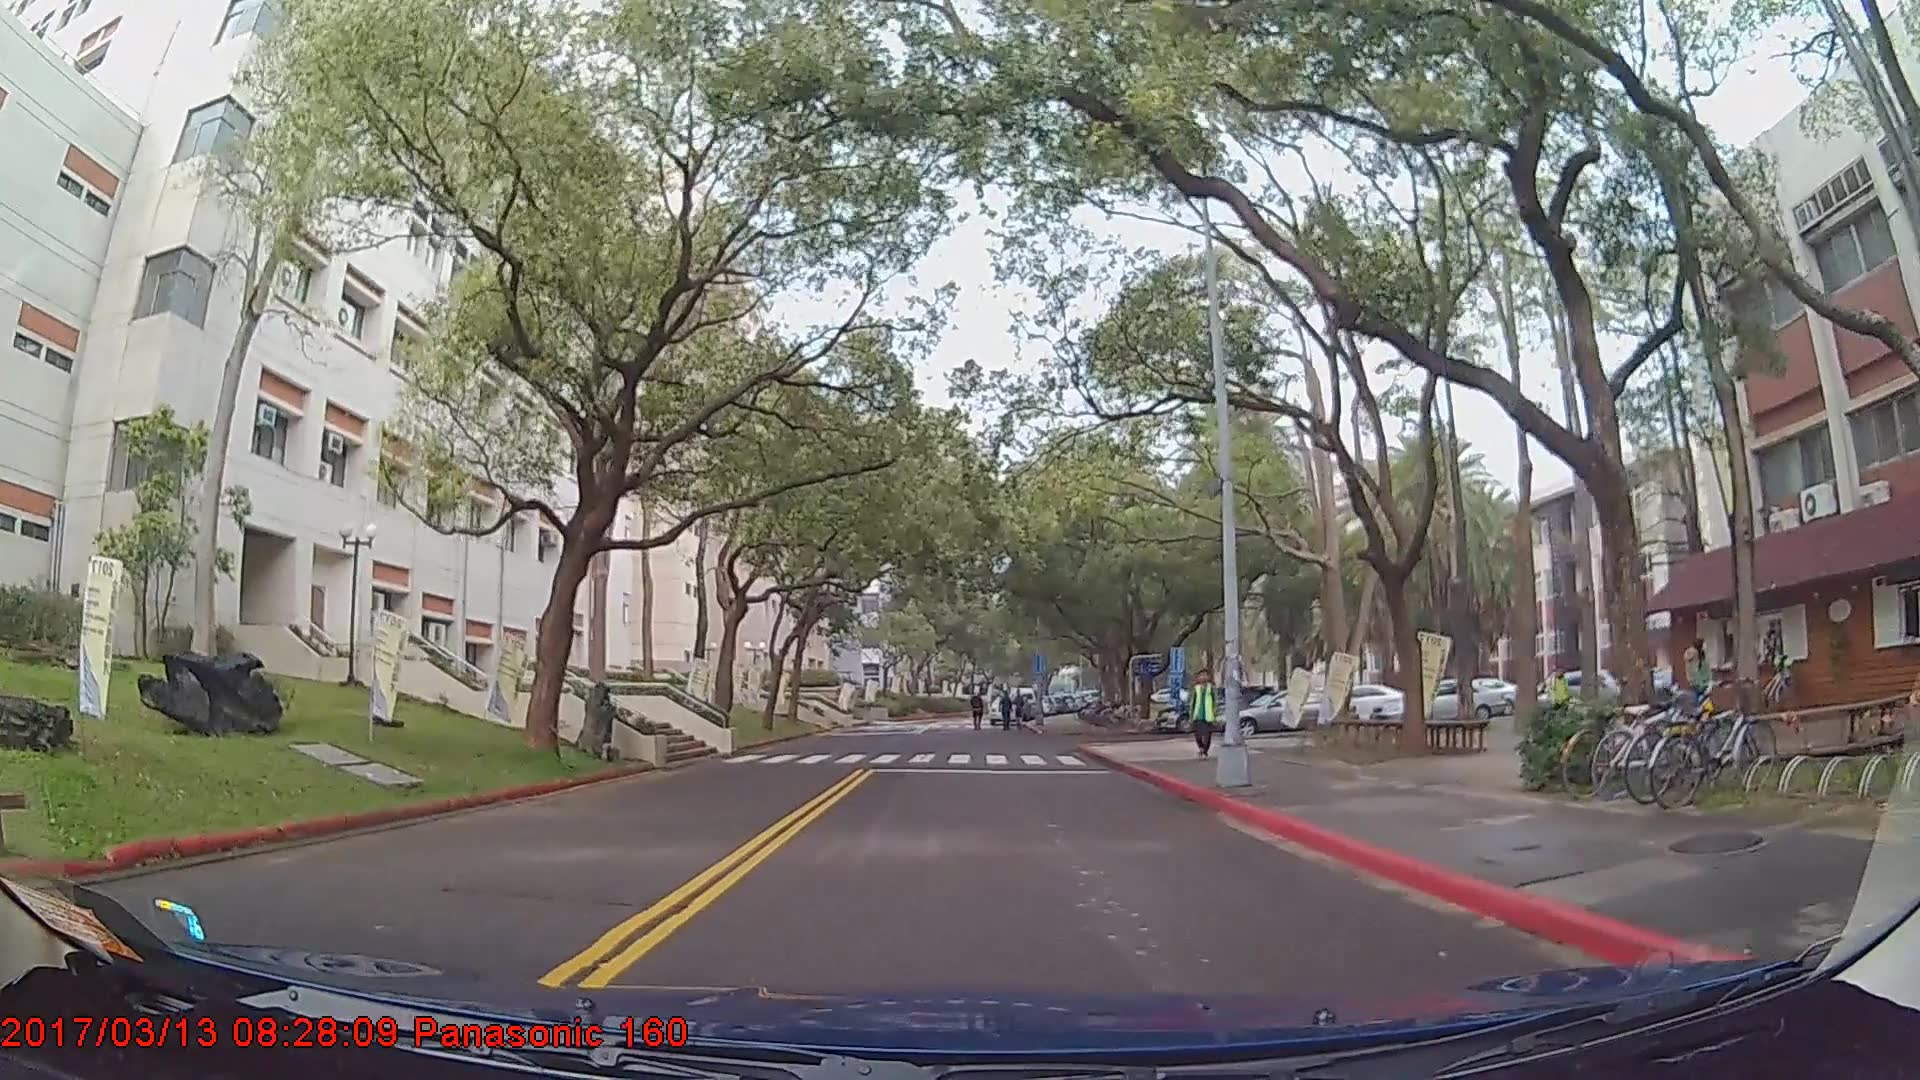pedestrian: (1186, 670, 1222, 760), (1550, 667, 1575, 726), (998, 689, 1018, 731)
vehicle: (1227, 689, 1360, 741), (1371, 678, 1507, 729)
